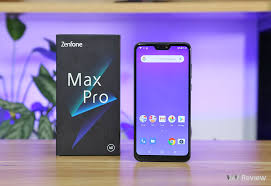asus: (51, 30, 122, 158), (132, 40, 195, 163)
